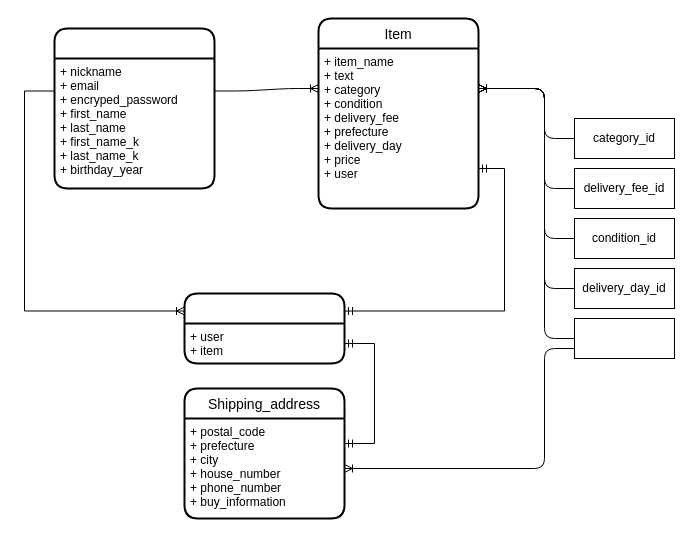
This 692x536 diagram has some shape labels left out. Each missing label, with the box of its shape:
Buy_record: (183, 292, 345, 364)
prefecture_id: (574, 318, 674, 358)
User: (53, 27, 215, 189)
